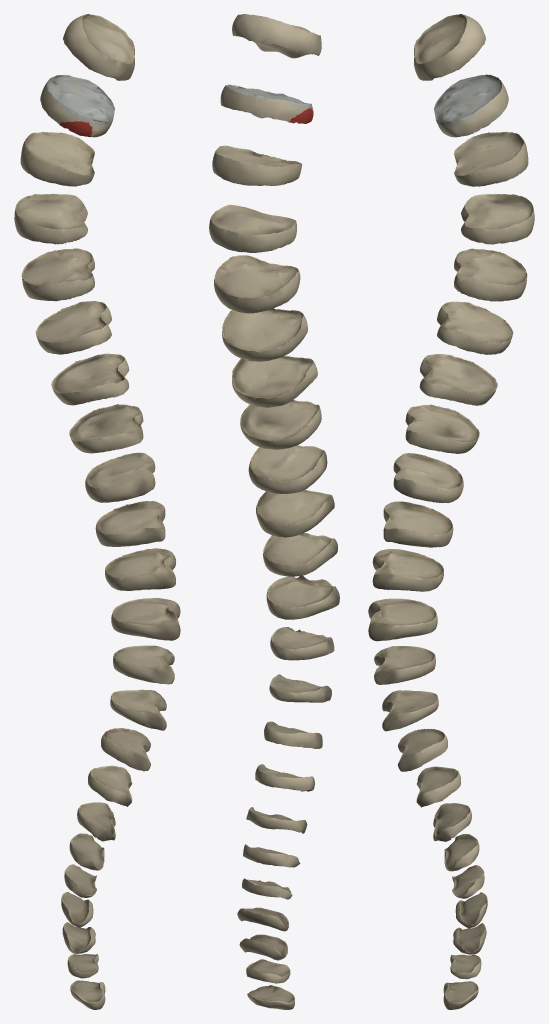
The model's file is disci-intervertebrales.glb.
The picture shows the model from 3 angles, left to right: view 1: azimuth 90°, elevation 25°; view 2: azimuth 150°, elevation 25°; view 3: azimuth 270°, elevation 25°; orthographic projection.
Visible parts, largest first — view 1: FJ3217, FJ3215, FJ3214, FJ3212, FJ3211, FJ3210, FJ3209, FJ3208, FJ3207, FJ3206, FJ3205, FJ3204 (+13 smaller); view 2: FJ3212, FJ3211, FJ3210, FJ3214, FJ3209, FJ3208, FJ3207, FJ3215, FJ3217, FJ3206, FJ3205, FJ3204 (+12 smaller); view 3: FJ3217, FJ3215, FJ3214, FJ3212, FJ3211, FJ3210, FJ3209, FJ3216, FJ3208, FJ3207, FJ3206, FJ3205 (+12 smaller).
Boxes of the visible parts, x1,y1,x2,y2 form: FJ3217: (63,14,134,80); FJ3215: (20,131,94,186); FJ3214: (14,193,87,244); FJ3212: (21,248,94,301); FJ3211: (35,301,111,354); FJ3210: (51,353,129,405); FJ3209: (69,404,143,453); FJ3208: (85,452,155,502); FJ3207: (95,501,165,546); FJ3206: (105,548,176,590); FJ3205: (111,598,180,640); FJ3204: (113,645,174,684); FJ3212: (214,255,300,313); FJ3211: (222,308,307,361); FJ3210: (232,356,317,407); FJ3214: (209,204,296,252); FJ3209: (240,400,321,449); FJ3208: (248,445,327,493); FJ3207: (256,489,334,537); FJ3215: (212,145,302,185); FJ3217: (232,14,321,58); FJ3206: (263,533,337,576); FJ3205: (266,575,339,619); FJ3204: (270,627,334,660); FJ3217: (414,14,485,80); FJ3215: (454,132,528,186); FJ3214: (461,194,534,244); FJ3212: (454,248,527,301); FJ3211: (437,301,513,354); FJ3210: (419,354,497,405); FJ3209: (405,404,479,453); FJ3216: (434,74,508,137); FJ3208: (393,453,463,502); FJ3207: (383,501,453,547); FJ3206: (372,549,443,591); FJ3205: (368,598,437,641).
Size of the model in its own units: 49.3 by 556 by 85.38.
